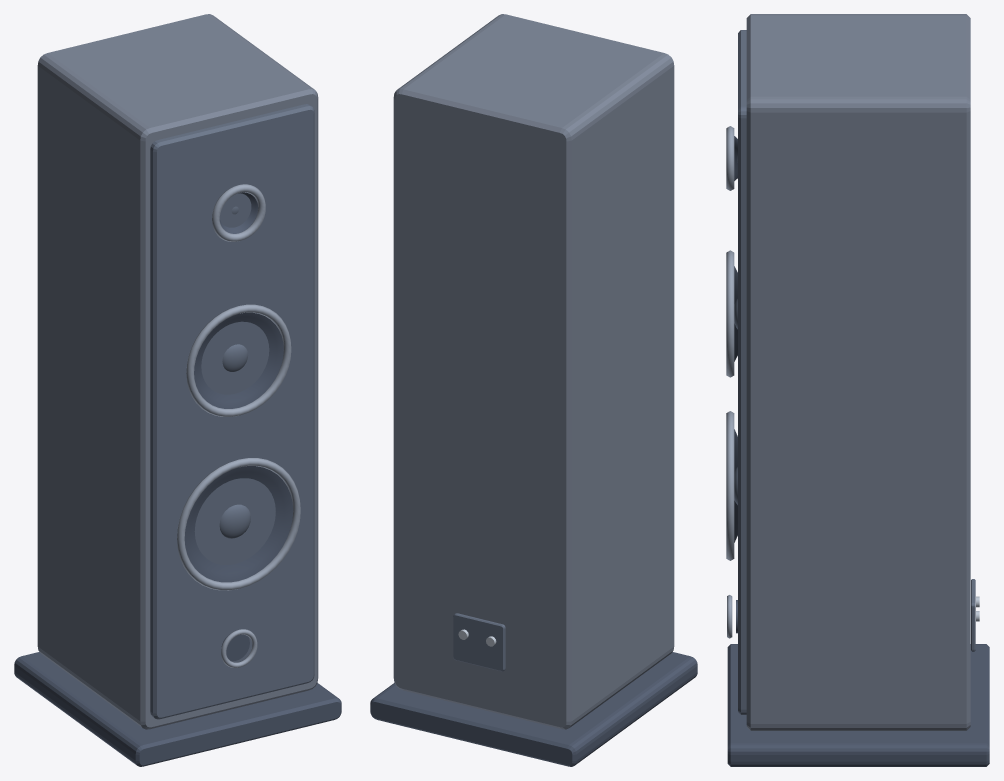
File: tower-speaker.glb
3 views of the same model, side by side, from view 1: azimuth 30°, elevation 25°; view 2: azimuth 150°, elevation 25°; view 3: azimuth 270°, elevation 25° (orthographic). The views are drawn at different scales.
Visible parts, largest first — view 1: body, dark, accent, soft; view 2: body, accent, dark; view 3: body, accent, dark, soft.
Part boxes in pixels (box(x1,y1,x2,y2)): body: box(37, 14, 318, 729); dark: box(150, 104, 314, 719); accent: box(14, 192, 341, 766); soft: box(177, 184, 300, 667); body: box(393, 14, 674, 729); accent: box(370, 652, 697, 766); dark: box(453, 613, 505, 671); body: box(746, 14, 970, 730); accent: box(727, 136, 989, 766); dark: box(734, 30, 975, 714); soft: box(726, 126, 734, 638).
Bounding box in the file's own units: 0.33 × 0.97 × 0.3467.
